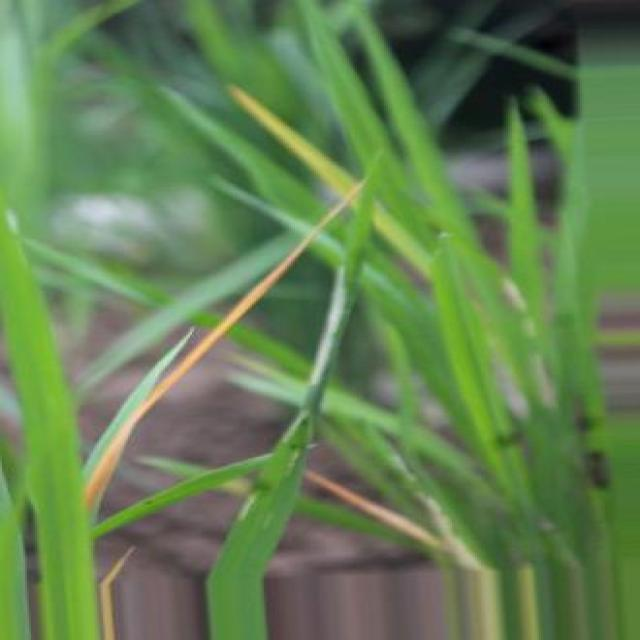Rice Tungro: (84, 185, 361, 511), (230, 86, 357, 194), (306, 472, 441, 548)
